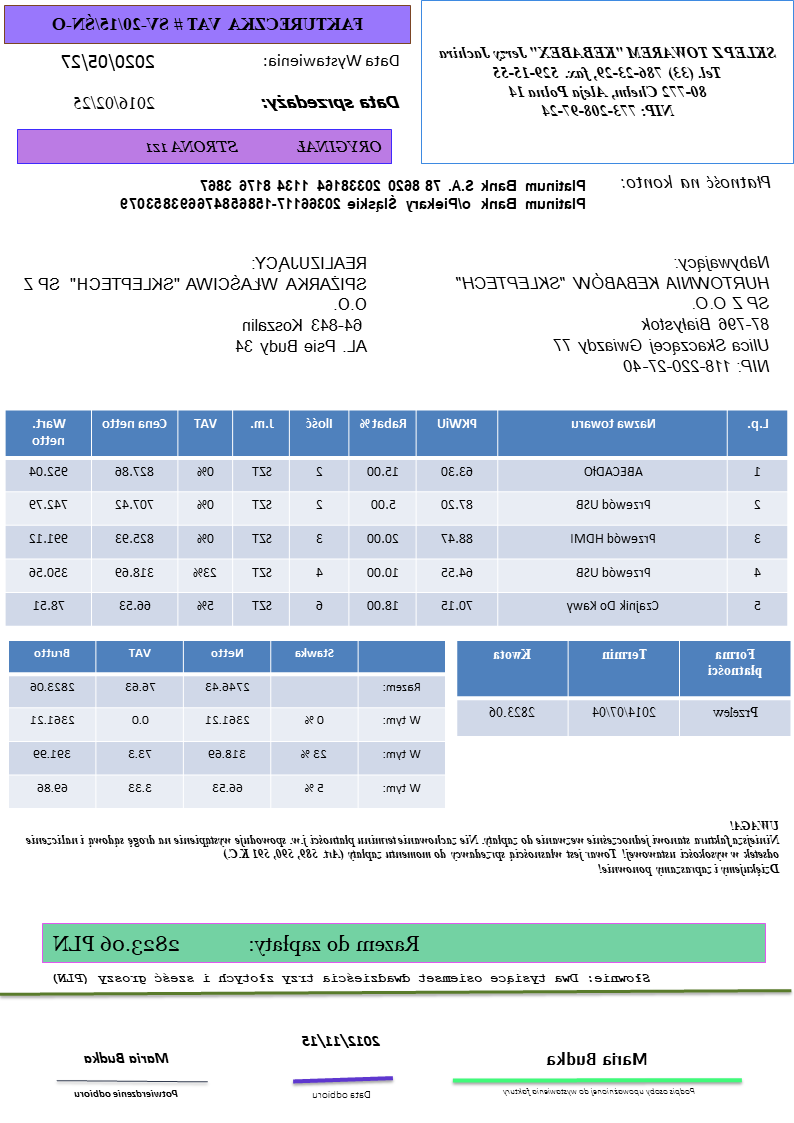Table: (4, 407, 790, 630), (7, 638, 449, 811), (454, 638, 792, 738)
TextBox: (24, 815, 782, 879), (452, 251, 772, 375), (20, 253, 371, 355), (438, 40, 780, 124), (115, 175, 588, 216), (51, 928, 425, 961), (51, 969, 656, 987), (45, 9, 365, 37), (143, 136, 385, 157), (621, 171, 774, 192), (261, 50, 405, 70), (259, 94, 403, 113), (498, 1084, 699, 1097), (58, 49, 158, 74), (542, 1048, 652, 1069), (71, 1085, 181, 1101), (80, 1049, 173, 1067), (71, 93, 157, 111), (298, 1031, 384, 1049), (307, 1086, 375, 1102)
